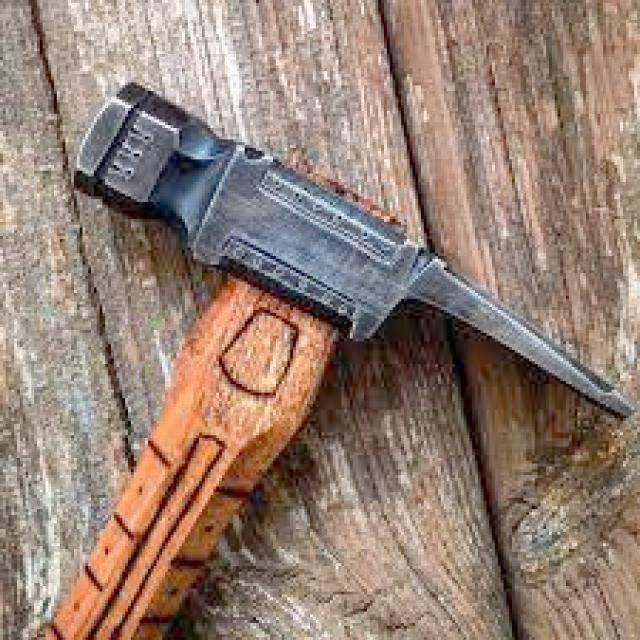hammer: (28, 65, 640, 640)
